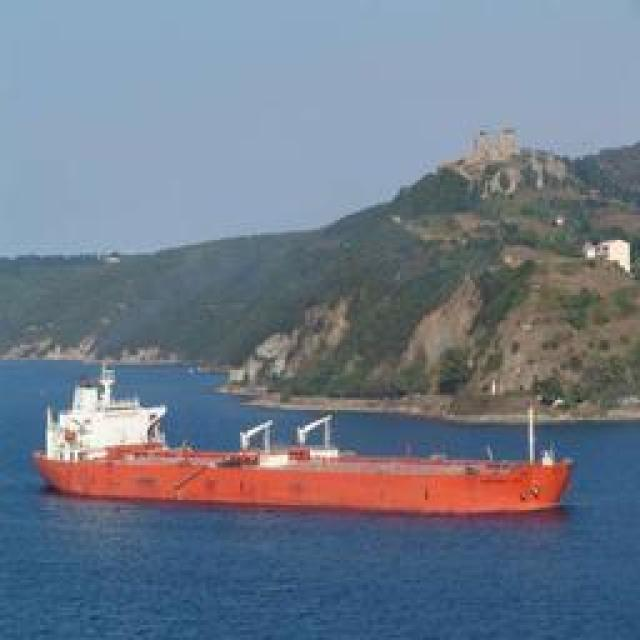CIV_Ship: (36, 384, 572, 518)
